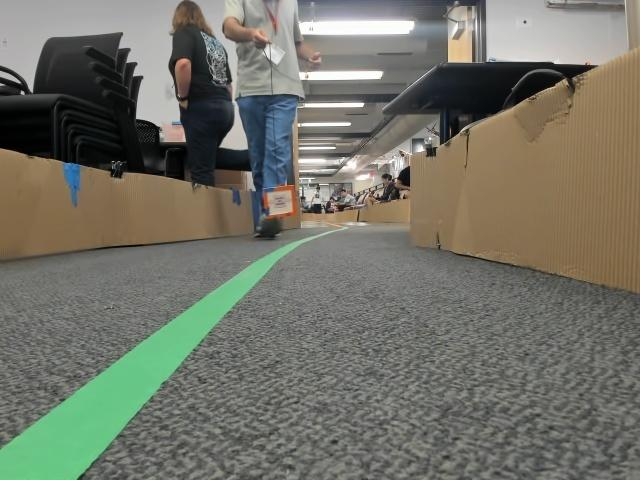Do Not Go Around: (269, 195, 290, 209)
